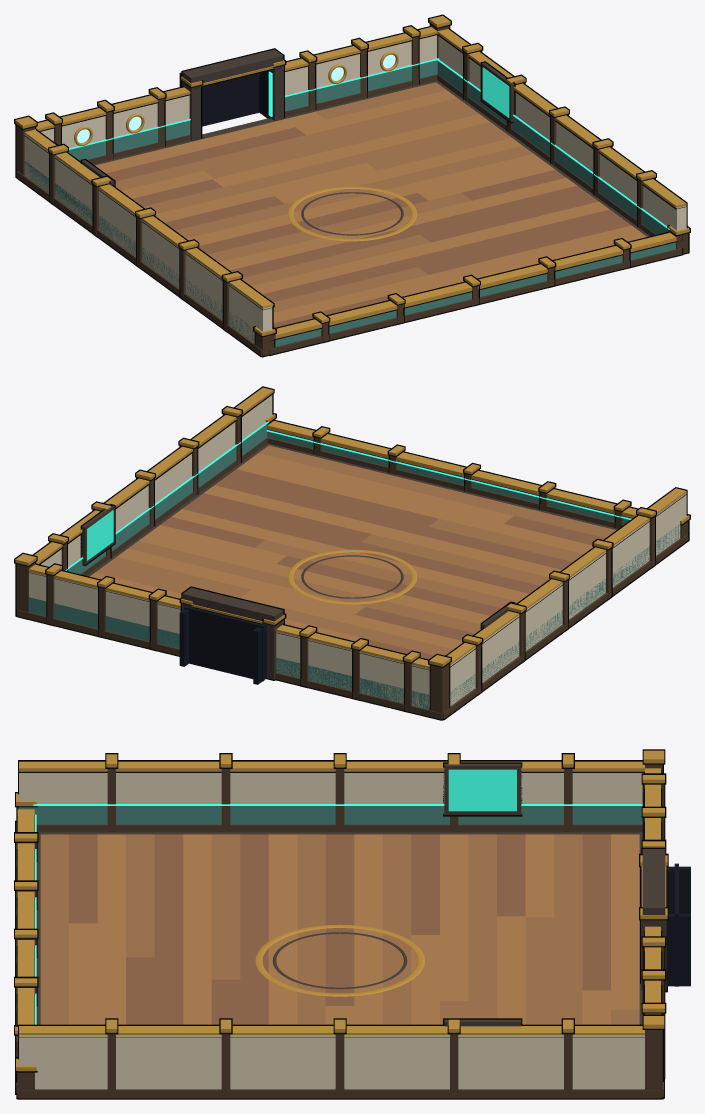
Rendered from SpaceshipShell.glb.
The picture shows the model from 3 angles, top to bottom: view 1: azimuth 30°, elevation 25°; view 2: azimuth 150°, elevation 25°; view 3: azimuth 270°, elevation 25°; orthographic projection. The views are drawn at different scales.
Parts seen in each view (by area): view 1: Shell_Deck, Shell_Structure, Shell_OutlineHull, Shell_Glow; view 2: Shell_Structure, Shell_Deck, Shell_OutlineHull, Shell_Glow; view 3: Shell_Deck, Shell_Structure, Shell_OutlineHull, Shell_Glow.
Boxes of the visible parts, x1,y1,x2,y2 form: Shell_Deck: (93, 80, 649, 327); Shell_Structure: (15, 15, 689, 356); Shell_OutlineHull: (14, 14, 690, 357); Shell_Glow: (69, 54, 669, 229); Shell_Structure: (15, 387, 689, 719); Shell_Deck: (87, 443, 617, 659); Shell_OutlineHull: (14, 386, 690, 720); Shell_Glow: (65, 421, 631, 570); Shell_Deck: (36, 832, 642, 1024); Shell_Structure: (15, 750, 690, 1098); Shell_OutlineHull: (14, 749, 668, 1099); Shell_Glow: (33, 769, 642, 1024).
Bounding box in the file's own units: 22.86 × 3.28 × 23.73.
